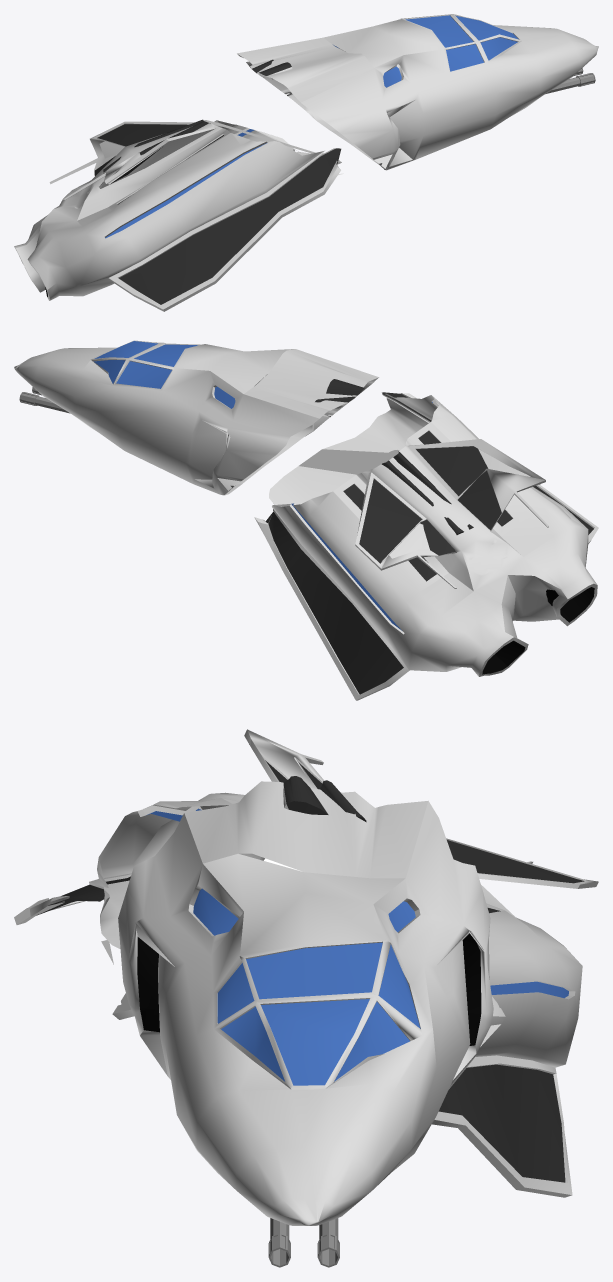
File: ship2_destroyed.dae
3 renders of one model, top to bottom at view 1: azimuth 30°, elevation 25°; view 2: azimuth 150°, elevation 25°; view 3: azimuth 270°, elevation 25°, orthographic. The views are drawn at different scales.
Visible parts, largest first — view 1: Spaceship front, Spaceship rear, Canons; view 2: Spaceship front, Spaceship rear; view 3: Spaceship rear, Spaceship front, Canons.
Part boxes in pixels (x1,y1,x2,y2): Spaceship front: [14, 119, 341, 311]; Spaceship rear: [237, 14, 598, 175]; Canons: [546, 68, 595, 93]; Spaceship front: [254, 392, 598, 700]; Spaceship rear: [14, 340, 378, 495]; Spaceship rear: [101, 776, 505, 1225]; Spaceship front: [14, 729, 598, 1197]; Canons: [268, 1218, 339, 1267].
Size of the model in its own units: 14.17 by 6.35 by 5.89.
